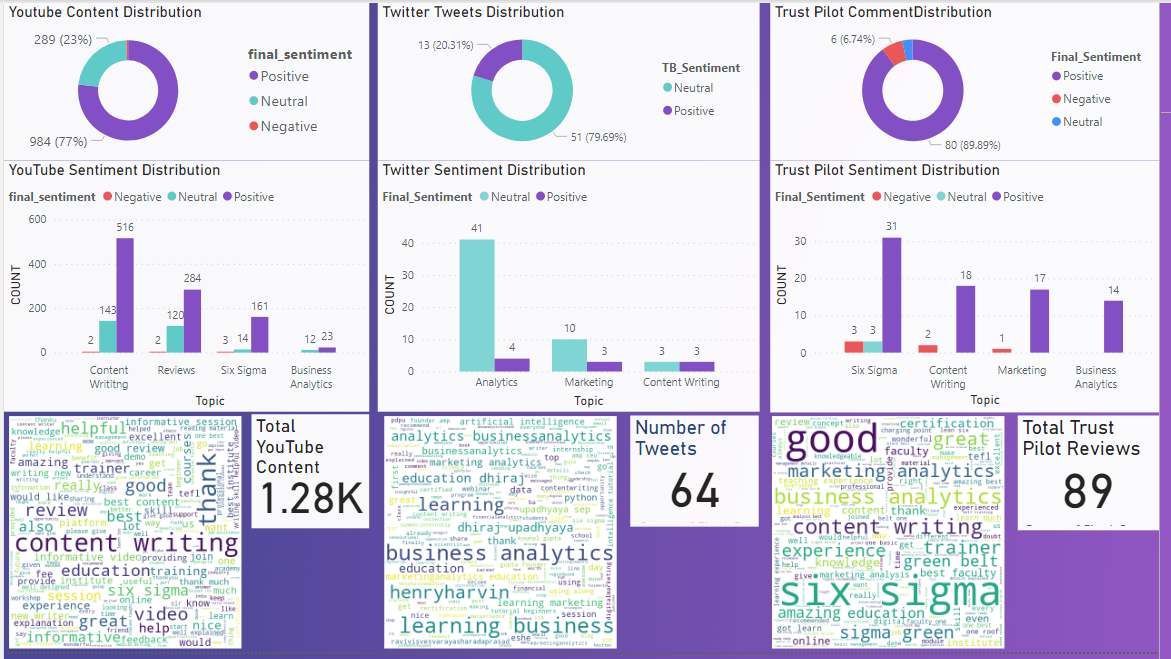

The page's visual inventory and layout, read from the dashboard file:
{"tool":"powerbi","page":{"name":"Page 1","canvas":[1280,720],"ordinal":0},"visuals":[{"type":"donutChart","title":"Youtube Content Distribution","fields":{"Category":["yt-comment-sentiment - Combined Sentiments.final_sentiment"],"Y":["CountNonNull(yt-comment-sentiment - Combined Sentiments.final_sentiment)"]},"box":[0,0,405.2,174.4],"z":0},{"type":"clusteredColumnChart","title":"YouTube Sentiment Distribution","fields":{"Category":["yt-comment-sentiment - Combined Sentiments.Topic"],"Series":["yt-comment-sentiment - Combined Sentiments.final_sentiment"],"Y":["CountNonNull(yt-comment-sentiment - Combined Sentiments.final_sentiment)"]},"box":[0,174.4,405.2,278.8],"z":1000},{"type":"card","title":"Total YouTube Content","fields":{"Values":["CountNonNull(yt-comment-sentiment - Combined Sentiments.tb_polarity)"]},"box":[274.3,455.8,130.2,126.1],"z":2000},{"type":"image","box":[0,453,268.7,267.4],"z":3000},{"type":"donutChart","title":"Twitter Tweets Distribution","fields":{"Category":["Twitter_Analysis - Combined.TB_Sentiment"],"Y":["CountNonNull(Twitter_Analysis - Combined.TB_Sentiment)"]},"box":[414.8,0,423,174.4],"z":4000},{"type":"clusteredColumnChart","title":"Twitter Sentiment Distribution","fields":{"Category":["Twitter_Analysis - Combined.Topic"],"Series":["Twitter_Analysis - Combined.Final_Sentiment"],"Y":["CountNonNull(Twitter_Analysis - Combined.Final_Sentiment)"]},"box":[414.8,174.4,423,278.8],"z":5000},{"type":"image","box":[414.2,453,271.5,267.4],"z":6000},{"type":"card","title":"Number of Tweets","fields":{"Values":["CountNonNull(Twitter_Analysis - Combined.Final_Sentiment)"]},"box":[694,457.1,142.7,123.3],"z":7000},{"type":"donutChart","title":"Trust Pilot CommentDistribution","fields":{"Category":["Trust Pilot_Analysis - Combined.Final_Sentiment"],"Y":["CountNonNull(Trust Pilot_Analysis - Combined.Final_Sentiment)"]},"box":[848.8,0,431.2,174.4],"z":8000},{"type":"clusteredColumnChart","title":"Trust Pilot Sentiment Distribution","fields":{"Category":["Trust Pilot_Analysis - Combined.Topic"],"Series":["Trust Pilot_Analysis - Combined.Final_Sentiment"],"Y":["CountNonNull(Trust Pilot_Analysis - Combined.Final_Sentiment)"]},"box":[849,174,431,279],"z":9000},{"type":"image","box":[836.7,453,286.8,267.4],"z":10000},{"type":"card","title":"Total Trust Pilot Reviews","fields":{"Values":["CountNonNull(Trust Pilot_Analysis - Combined.Final_Sentiment)"]},"box":[1123.5,457.1,156.5,127.4],"z":11000}]}

Visuals, with their boxes in screenshot pixels (x1, y1, x2, y2), scaled from the page's 1280x720 canvas onto the 1171x659 screenshot:
"Youtube Content Distribution" donutChart: rect(0, 0, 371, 160)
"YouTube Sentiment Distribution" clusteredColumnChart: rect(0, 160, 371, 415)
"Total YouTube Content" card: rect(251, 417, 370, 533)
image: rect(0, 415, 246, 658)
"Twitter Tweets Distribution" donutChart: rect(379, 0, 766, 160)
"Twitter Sentiment Distribution" clusteredColumnChart: rect(379, 160, 766, 415)
image: rect(379, 415, 627, 658)
"Number of Tweets" card: rect(635, 418, 765, 531)
"Trust Pilot CommentDistribution" donutChart: rect(777, 0, 1170, 160)
"Trust Pilot Sentiment Distribution" clusteredColumnChart: rect(777, 159, 1170, 415)
image: rect(765, 415, 1028, 658)
"Total Trust Pilot Reviews" card: rect(1028, 418, 1170, 535)
